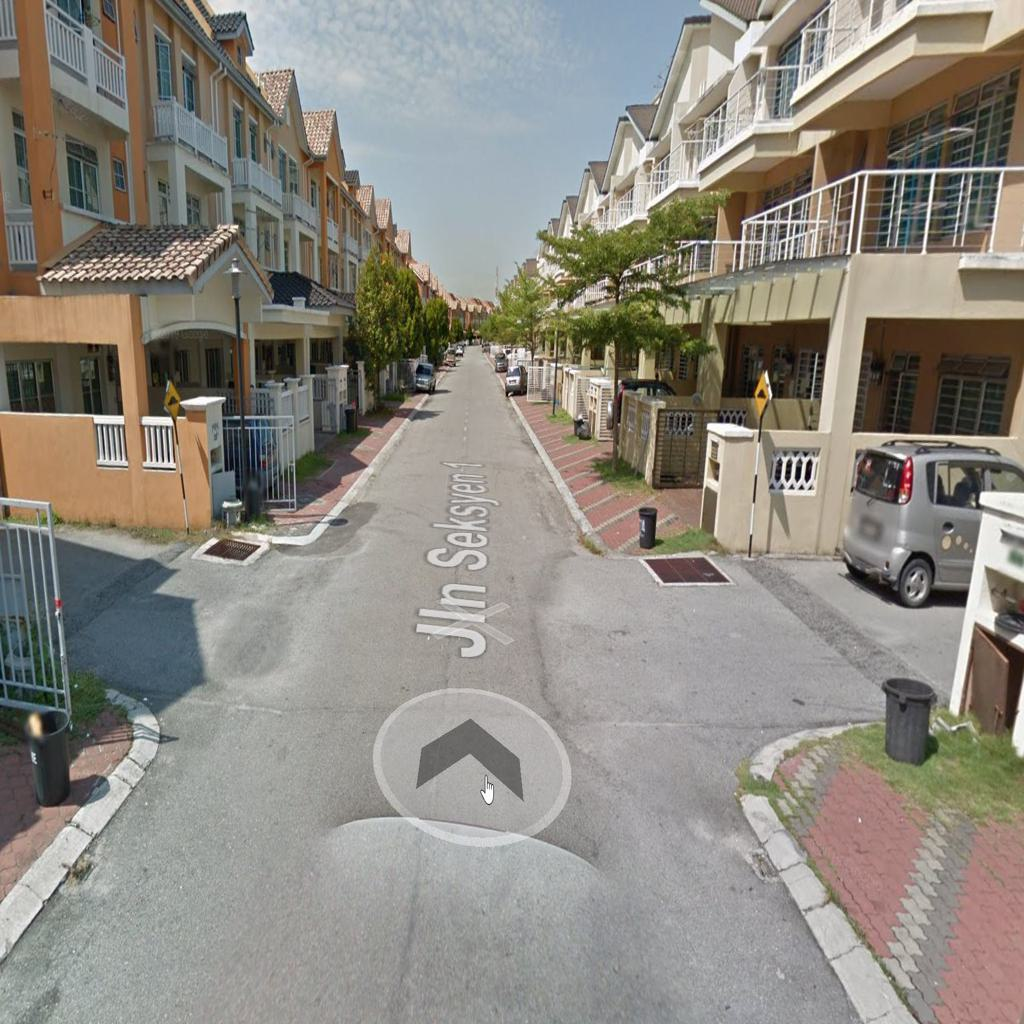Junction: (606, 514, 948, 770), (32, 503, 348, 756)
